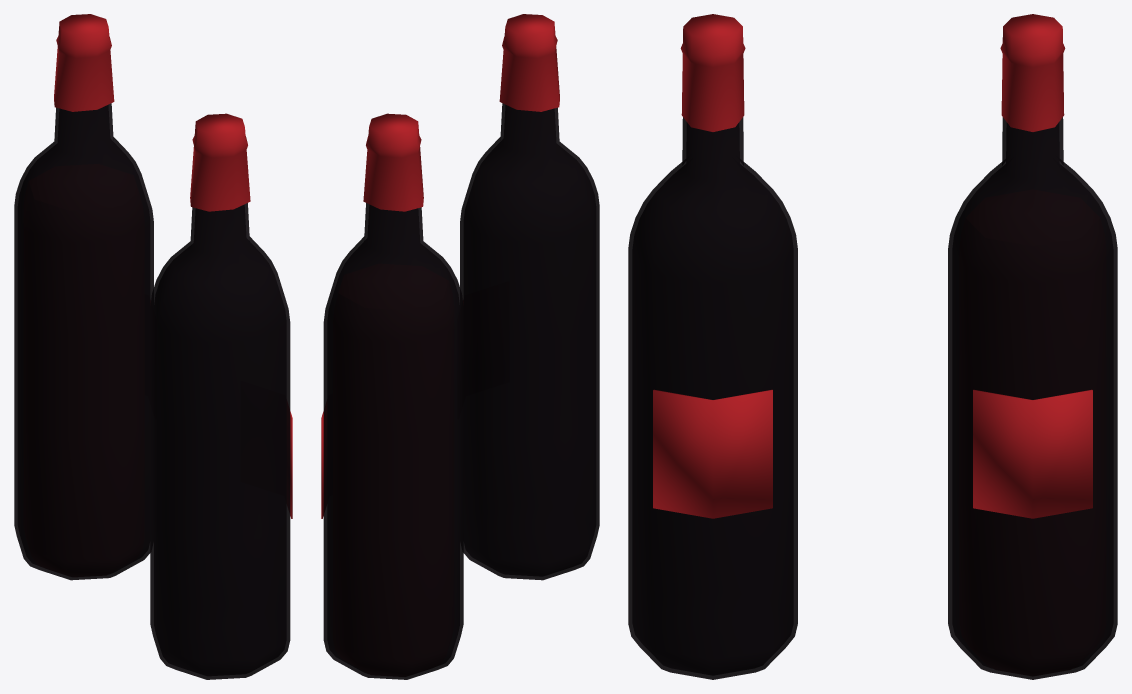
3 views of the same model, side by side, from view 1: azimuth 30°, elevation 25°; view 2: azimuth 150°, elevation 25°; view 3: azimuth 270°, elevation 25° (orthographic). The views are drawn at different scales.
Visible parts, largest first — view 1: Circle_1, Circle.003_4, Circle.001_2, Circle.004_5; view 2: Circle.003_4, Circle_1, Circle.004_5, Circle.001_2; view 3: Circle_1, Circle.003_4, Circle.002_3, Circle.005_6, Circle.001_2, Circle.004_5.
Part boxes in pixels (x1=…): Circle_1: x1=150, y1=203, x2=290, y2=679; Circle.003_4: x1=14, y1=103, x2=153, y2=580; Circle.001_2: x1=190, y1=113, x2=250, y2=211; Circle.004_5: x1=54, y1=14, x2=114, y2=111; Circle.003_4: x1=323, y1=203, x2=463, y2=679; Circle_1: x1=460, y1=103, x2=599, y2=580; Circle.004_5: x1=363, y1=113, x2=423, y2=211; Circle.001_2: x1=499, y1=14, x2=559, y2=111; Circle_1: x1=628, y1=117, x2=797, y2=679; Circle.003_4: x1=948, y1=117, x2=1117, y2=679; Circle.002_3: x1=653, y1=389, x2=772, y2=518; Circle.005_6: x1=973, y1=389, x2=1092, y2=518; Circle.001_2: x1=680, y1=14, x2=745, y2=131; Circle.004_5: x1=1000, y1=14, x2=1065, y2=131.
Size of the model in its own units: 2.04 by 8.19 by 5.77.
